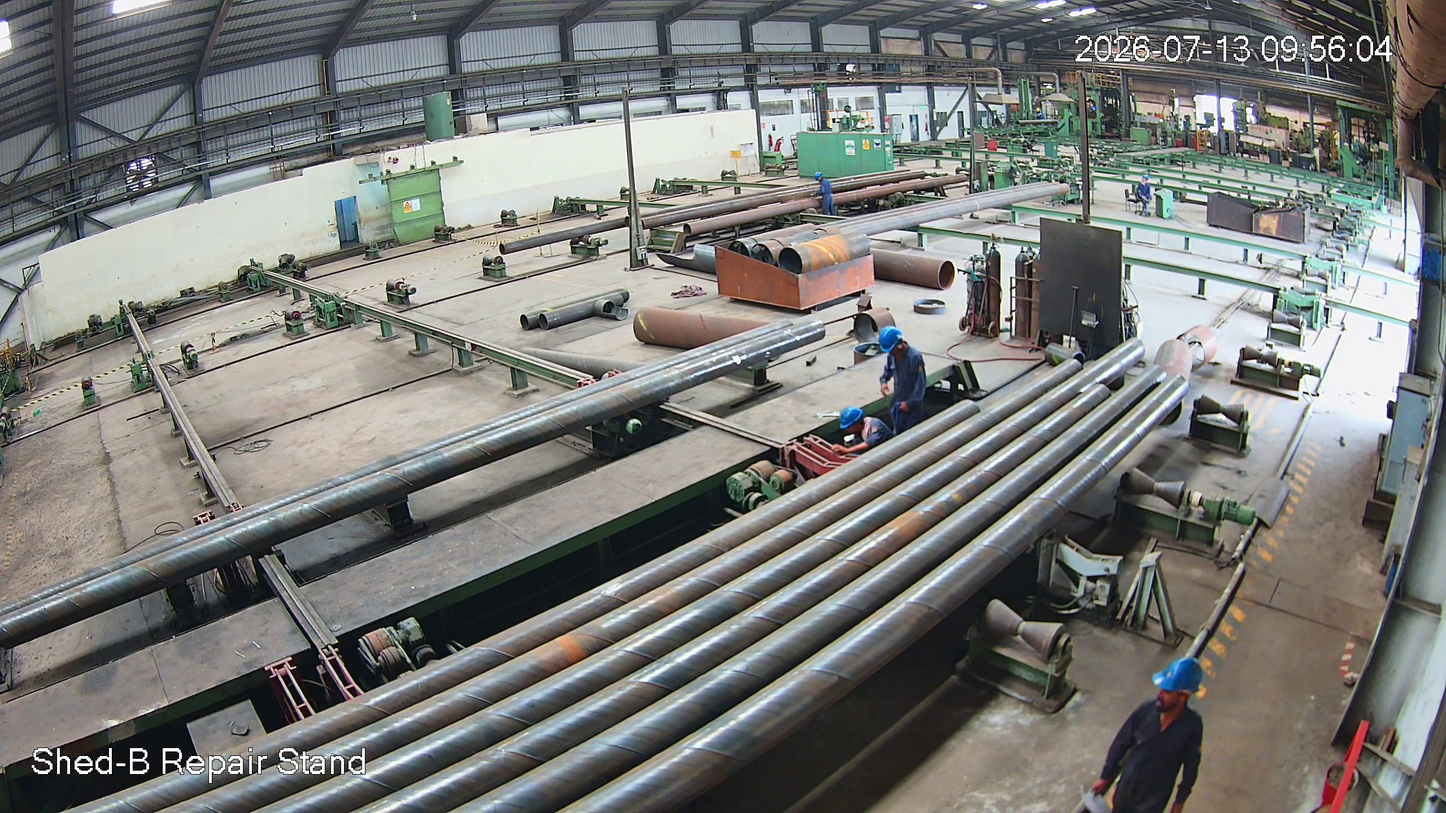Helmet: (1138, 646, 1210, 744), (875, 323, 918, 367), (837, 406, 875, 440), (813, 170, 824, 184)
Person: (1083, 652, 1219, 813), (870, 326, 935, 438), (830, 409, 892, 452), (814, 172, 836, 217)
